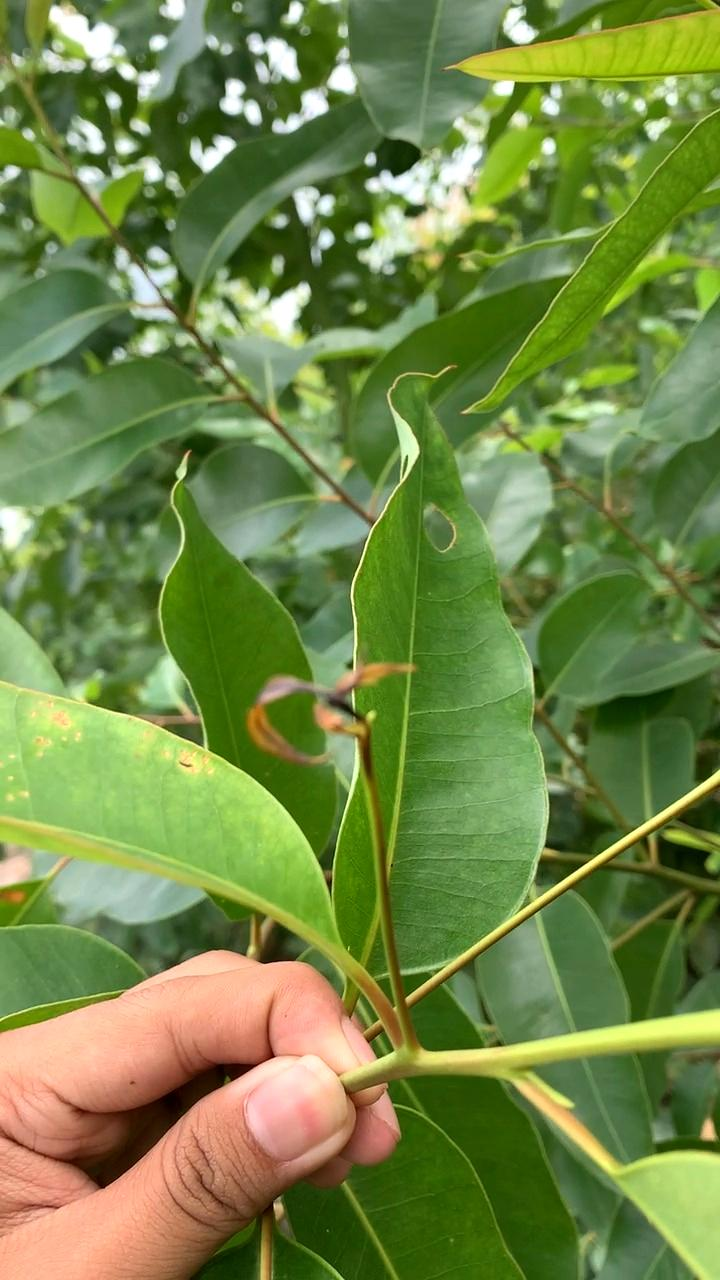Helopeltis-Withered Sprout: (246, 648, 413, 767)
